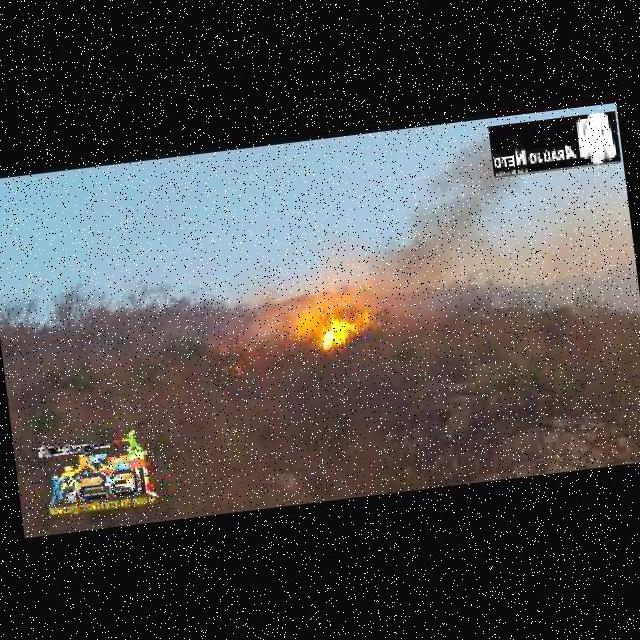Fire: (310, 299, 369, 349), (233, 362, 244, 375)
Smoke: (353, 143, 518, 307)
